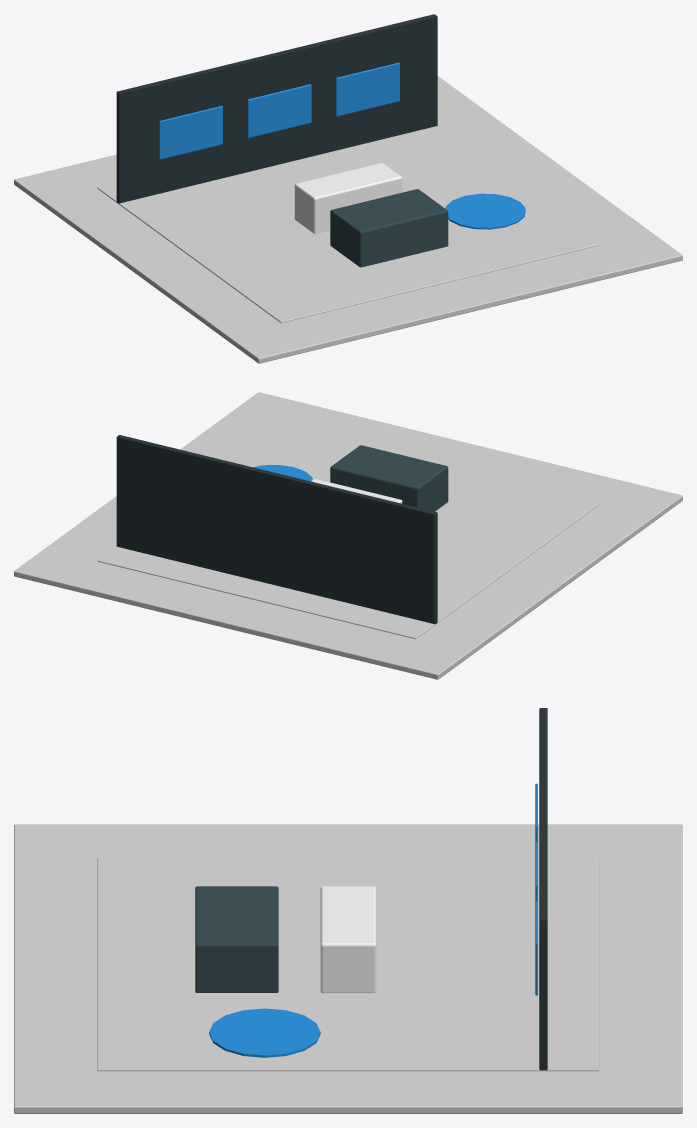
The model's file is 05_Editor_Garage.gltf.
The picture shows the model from 3 angles, top to bottom: view 1: azimuth 30°, elevation 25°; view 2: azimuth 150°, elevation 25°; view 3: azimuth 270°, elevation 25°; orthographic projection. The views are drawn at different scales.
Visible parts, largest first — view 1: Editor Garage Pad, Editor Garage Ground, Back wall, Node table, Workbench, Monitor.001, Monitor.002, Monitor, Portal pad; view 2: Editor Garage Ground, Back wall, Editor Garage Pad, Node table, Portal pad; view 3: Editor Garage Pad, Editor Garage Ground, Node table, Workbench, Portal pad, Back wall.
Boxes of the visible parts, x1,y1,x2,y2 form: Editor Garage Pad: [97, 126, 599, 323]; Editor Garage Ground: [14, 76, 682, 363]; Back wall: [116, 14, 437, 203]; Node table: [330, 189, 448, 267]; Workbench: [294, 163, 402, 233]; Monitor.001: [247, 84, 311, 138]; Monitor.002: [336, 62, 399, 116]; Monitor: [159, 106, 222, 159]; Portal pad: [445, 193, 525, 229]; Editor Garage Ground: [14, 392, 682, 679]; Back wall: [116, 435, 437, 624]; Editor Garage Pad: [97, 426, 599, 639]; Node table: [330, 445, 448, 511]; Portal pad: [253, 465, 312, 481]; Editor Garage Pad: [97, 858, 599, 1071]; Editor Garage Ground: [14, 824, 682, 1113]; Node table: [195, 886, 278, 992]; Workbench: [320, 886, 376, 992]; Portal pad: [209, 1008, 320, 1057]; Back wall: [539, 708, 547, 1070].
Size of the model in its own units: 24 by 6.3 by 24.
